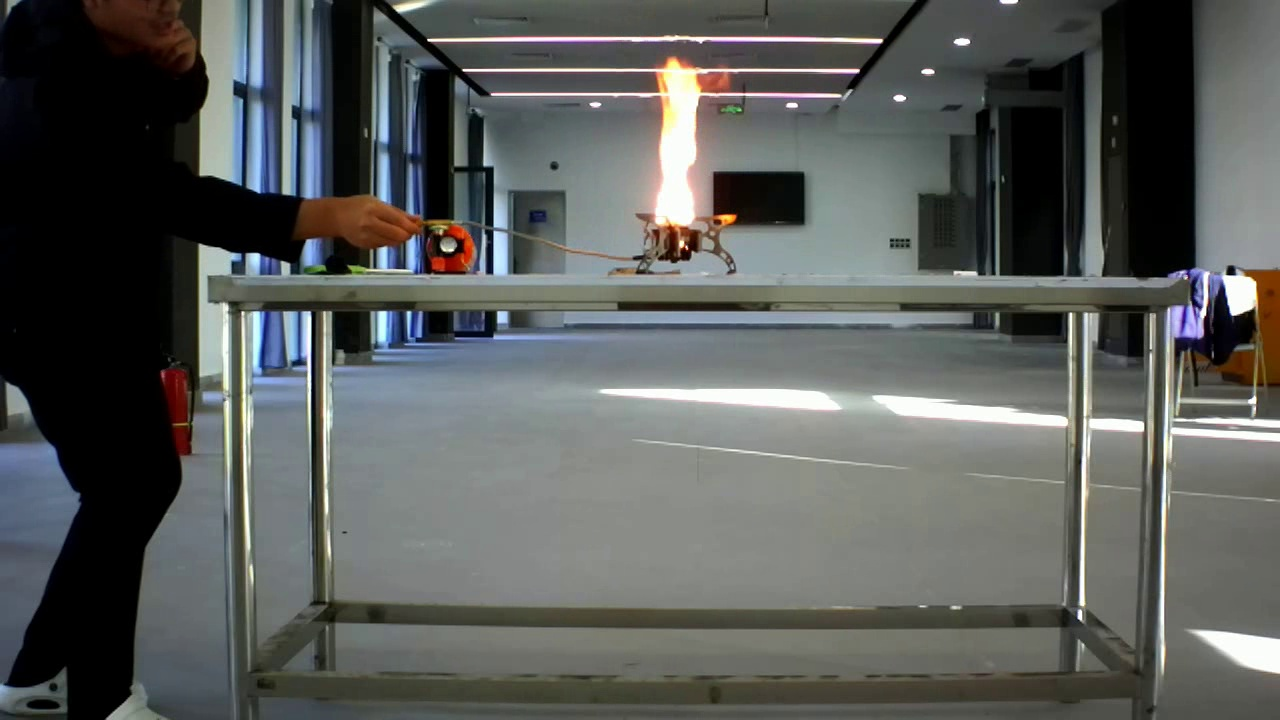Fire: (626, 48, 742, 271)
